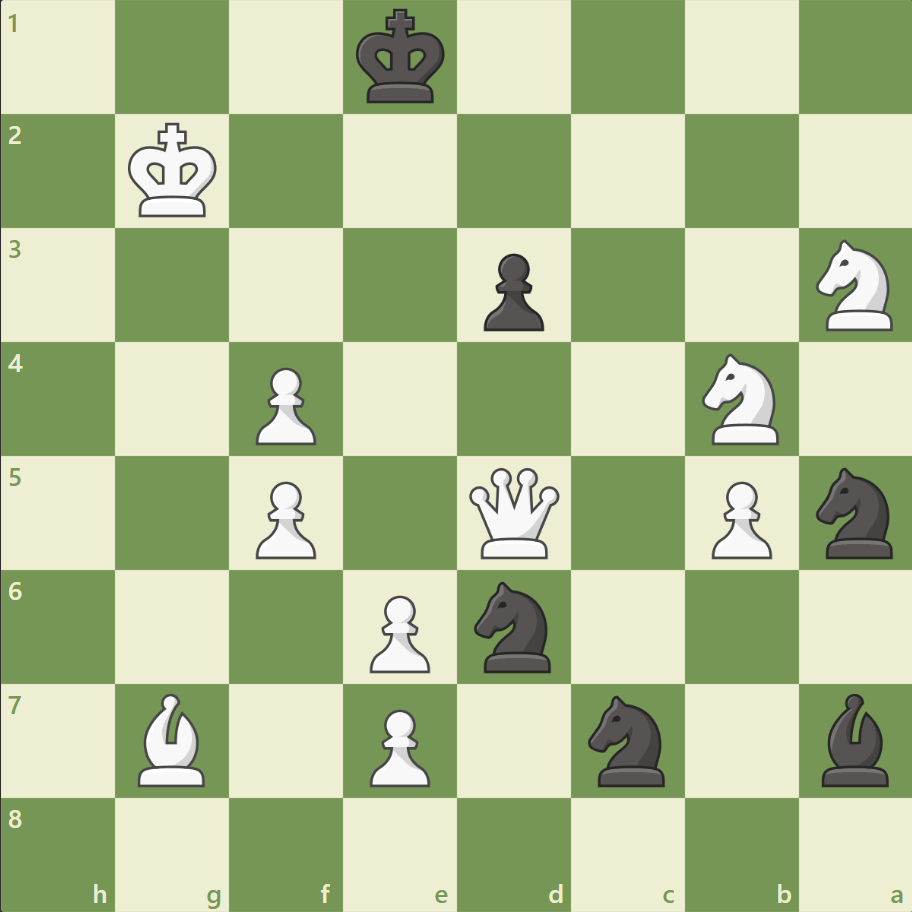B: (131, 687, 215, 790)
K: (124, 117, 224, 225)
N: (806, 234, 903, 337), (692, 348, 789, 450)
P: (701, 473, 776, 564), (247, 473, 322, 564), (247, 359, 322, 450), (361, 700, 435, 791), (361, 586, 435, 677)
Q: (464, 463, 563, 562)
b: (812, 687, 896, 790)
k: (351, 4, 451, 112)
n: (579, 688, 676, 791), (806, 461, 903, 564), (465, 575, 562, 677)
p: (474, 246, 549, 337)
